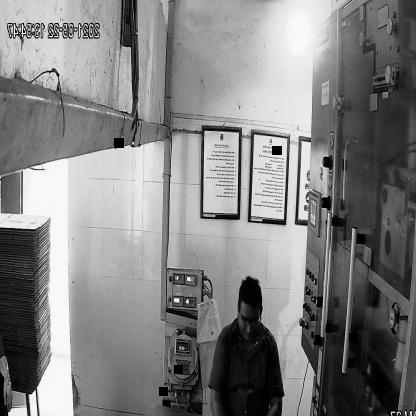goggles: (236, 308, 266, 335)
